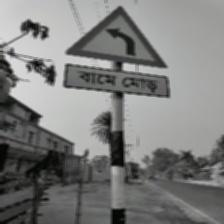Left-Turn: (63, 5, 170, 101)
